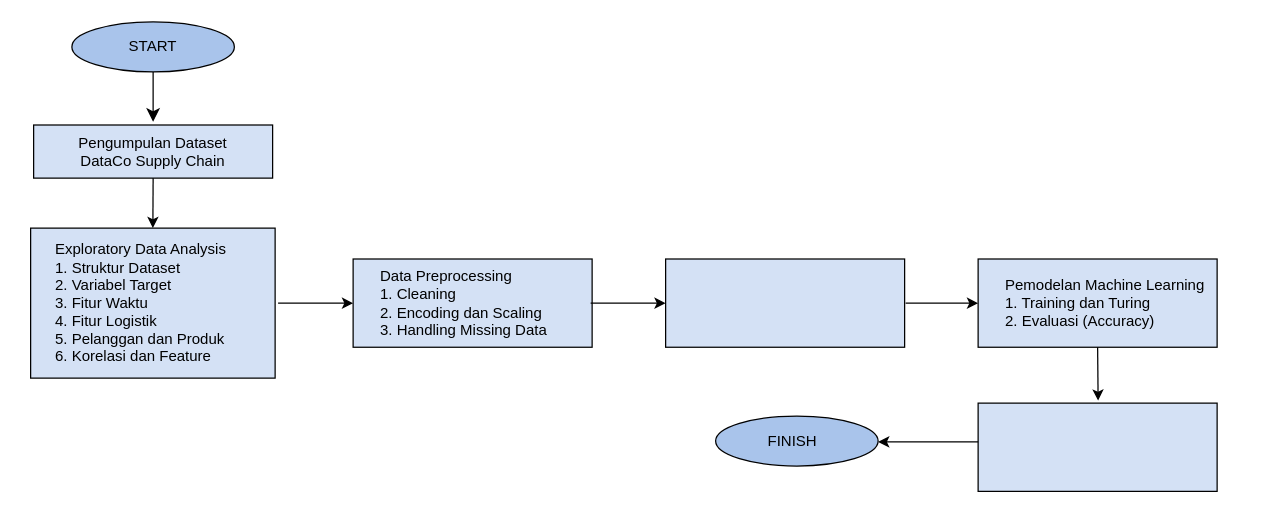
Some shapes in this 1286 by 514 pixel diagram are drawn without their labels. Here are the shapes that lost their labels. From the top down, the box of each, then its label:
(664, 258, 905, 347): Feature Engineering 1. Selisih Waktu 2. Shipping Features 3. Lokasi dan Kategori
(977, 402, 1217, 491): Interpretasi dan Insight 1. Feature Importance 2. Insight Keterlambatan
